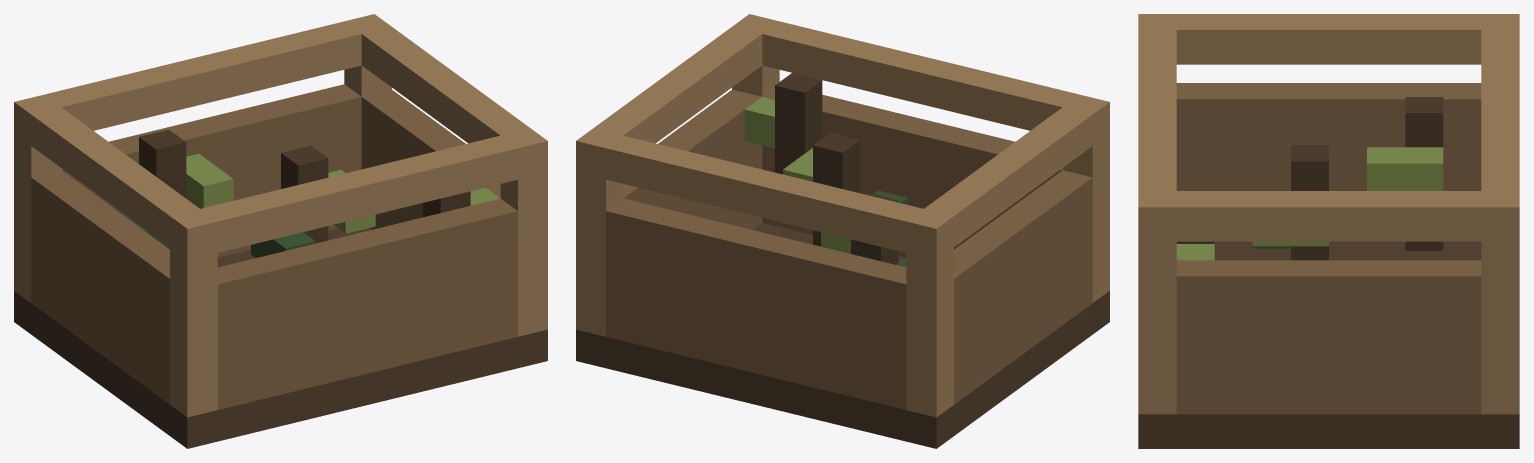
The model's file is elderberry_cutting_low.glb.
3 views of the same model, side by side, from view 1: azimuth 30°, elevation 25°; view 2: azimuth 150°, elevation 25°; view 3: azimuth 270°, elevation 25° (orthographic). The views are drawn at different scales.
Parts seen in each view (by area): view 1: VoxelVisual; view 2: VoxelVisual; view 3: VoxelVisual.
Part boxes in pixels (x1=…): VoxelVisual: x1=14, y1=14, x2=547, y2=448; VoxelVisual: x1=576, y1=14, x2=1109, y2=448; VoxelVisual: x1=1138, y1=14, x2=1519, y2=448.
Size of what is drawn, in the model's own units: 0.75 by 0.4375 by 0.625.
